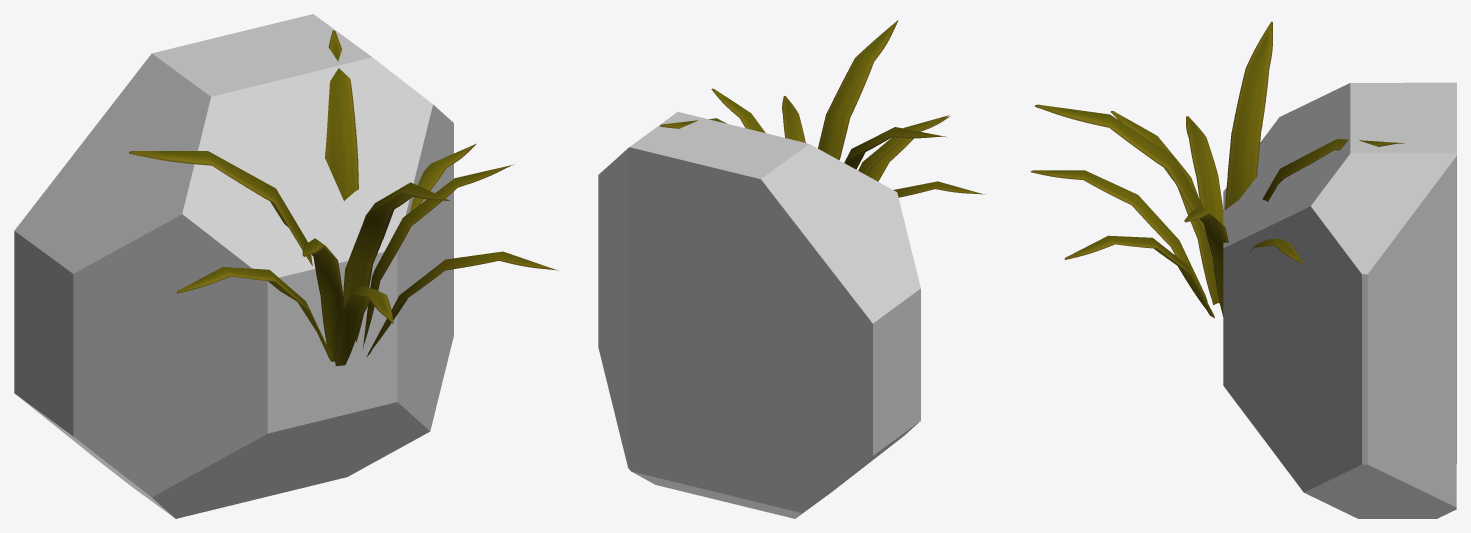
The model's file is SM_bush_03.fbx.
3 views of the same model, side by side, from view 1: azimuth 30°, elevation 25°; view 2: azimuth 150°, elevation 25°; view 3: azimuth 270°, elevation 25° (orthographic). The views are drawn at different scales.
Parts seen in each view (by area): view 1: SM_bush_03_ConvexHulls, SM_bush_03; view 2: SM_bush_03_ConvexHulls, SM_bush_03; view 3: SM_bush_03_ConvexHulls, SM_bush_03.
Boxes of the visible parts, left/top/right/bottom form: SM_bush_03_ConvexHulls: left=14, top=14, right=453, bottom=518; SM_bush_03: left=129, top=30, right=558, bottom=365; SM_bush_03_ConvexHulls: left=598, top=112, right=920, bottom=518; SM_bush_03: left=660, top=20, right=985, bottom=197; SM_bush_03_ConvexHulls: left=1223, top=82, right=1456, bottom=518; SM_bush_03: left=1031, top=21, right=1404, bottom=318.
Size of the model in its own units: 189 by 205 by 200.
2 materials, 1 textured.
